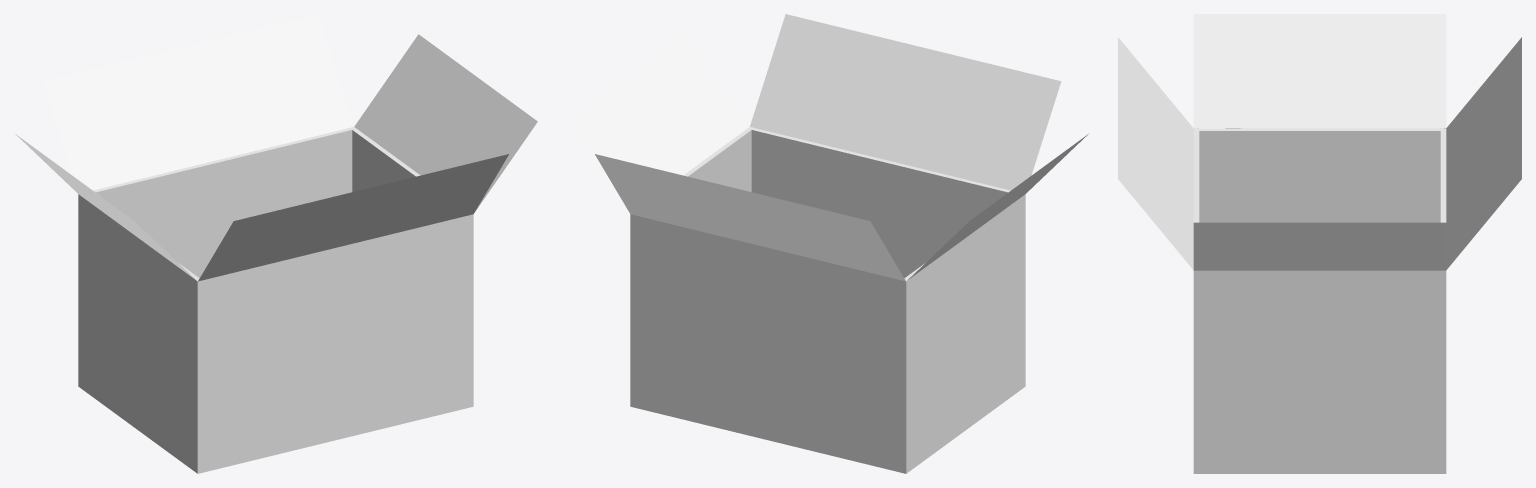
File: carton_open.glb
3 renders of one model, left to right at view 1: azimuth 30°, elevation 25°; view 2: azimuth 150°, elevation 25°; view 3: azimuth 270°, elevation 25°, orthographic. The views are drawn at different scales.
Parts seen in each view (by area): view 1: CartonOpen; view 2: CartonOpen; view 3: CartonOpen.
Part boxes in pixels (x1=…): CartonOpen: x1=15, y1=14, x2=537, y2=473; CartonOpen: x1=566, y1=14, x2=1088, y2=473; CartonOpen: x1=1118, y1=14, x2=1521, y2=473.
Size of the model in its own units: 0.88 by 0.58 by 0.72.
1 material, 1 textured.
